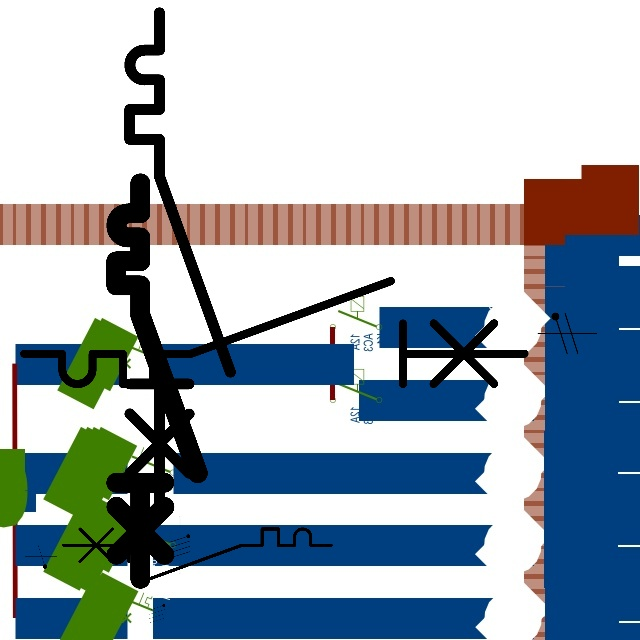interruptor_termomagnetico: (11, 268, 537, 397), (117, 0, 243, 515), (106, 173, 208, 589), (56, 522, 337, 590)
